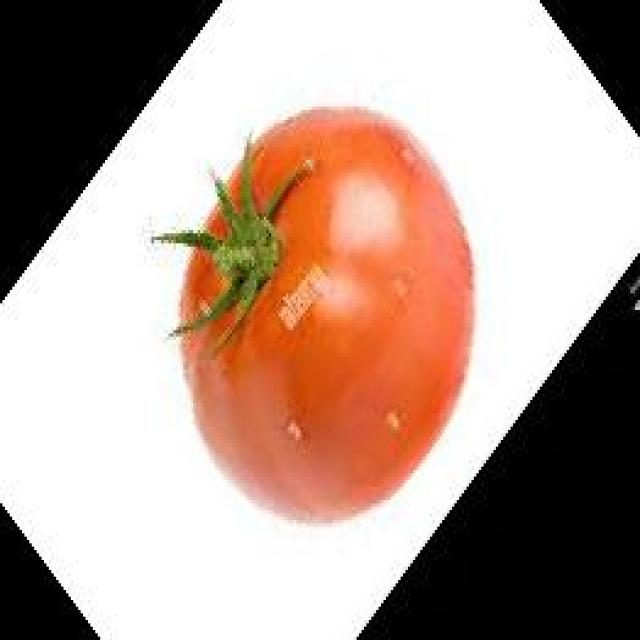Tomato: (181, 103, 484, 532)
